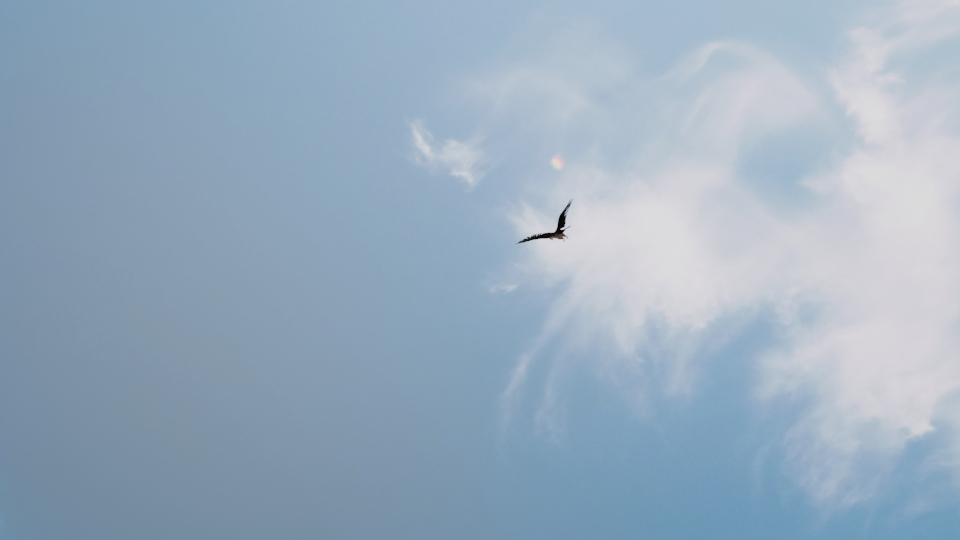bird: (519, 199, 575, 240)
